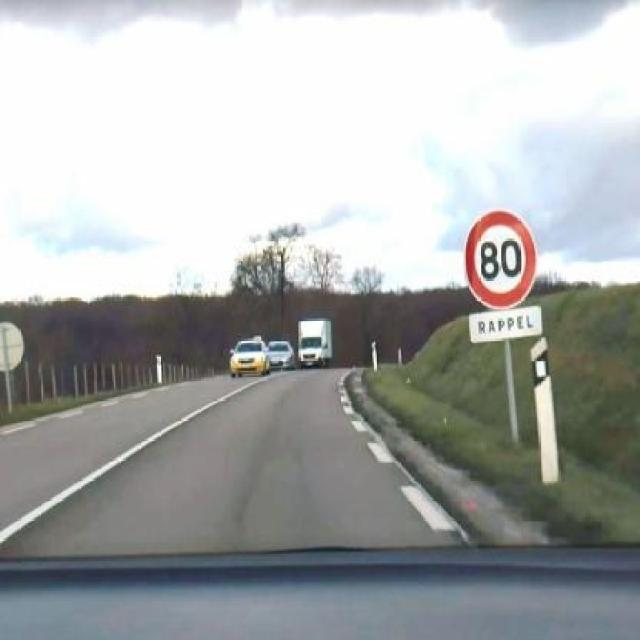forb_speed_over_80: (462, 211, 538, 304)
